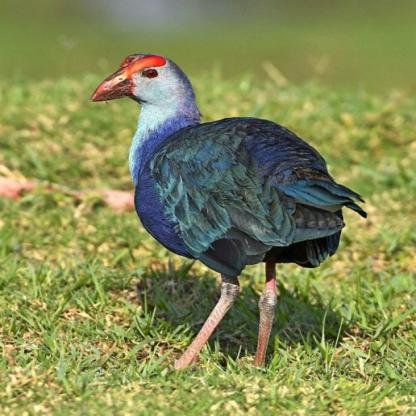Burung: (88, 49, 368, 383)
